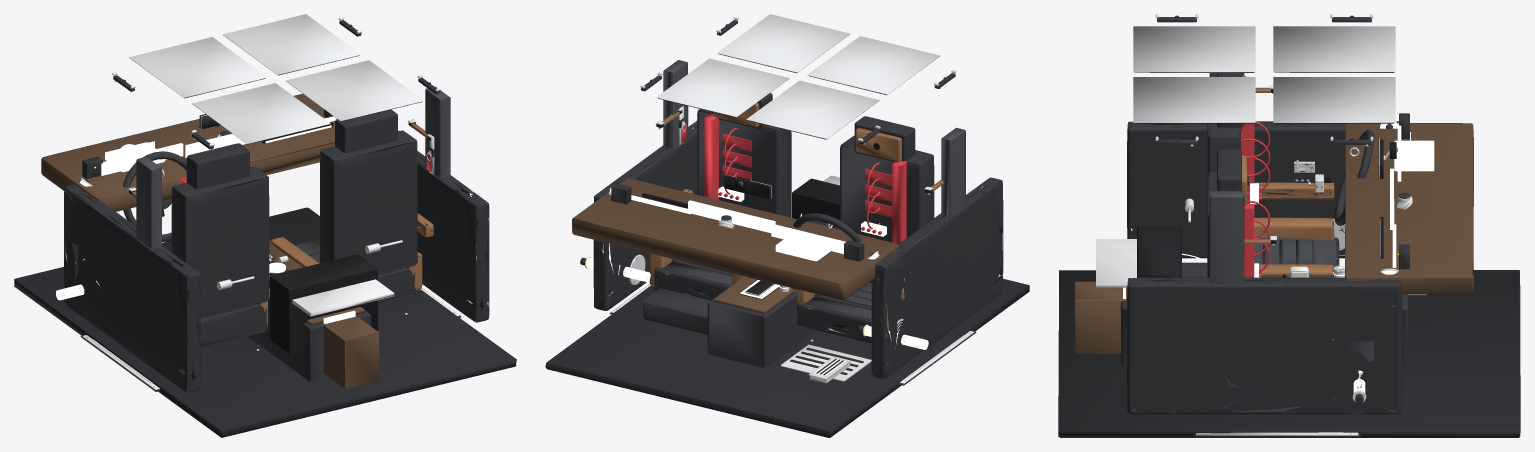
File: cockpit_luxury_executive.glb
3 views of the same model, side by side, from view 1: azimuth 30°, elevation 25°; view 2: azimuth 150°, elevation 25°; view 3: azimuth 270°, elevation 25° (orthographic). The views are drawn at different scales.
Visible parts, largest first — view 1: Cockpit_Floor_Carpet, Cockpit_Door_L, Cockpit_Passenger_Seat_Backrest, Cockpit_Driver_Seat_Backrest, Cockpit_Door_R, Cockpit_Executive_Dash_Cowl, Cockpit_Exec_VIP_Bar_Tray_BarCabinet, Cockpit_Exec_SmartGlass_GrabHandles_Busbar_Border_0_1, Cockpit_Exec_SmartGlass_GrabHandles_Busbar_Border_1_1, Cockpit_Exec_SmartGlass_GrabHandles_Busbar_Border_0_0, Cockpit_Exec_SmartGlass_GrabHandles_Busbar_Border_1_0, Cockpit_Executive_Refrigerated_Bar_Cabinet (+13 smaller); view 2: Cockpit_Floor_Carpet, Cockpit_Executive_Dash_Cowl, Cockpit_Door_L, Cockpit_Door_R, Cockpit_Driver_Seat_Backrest, Cockpit_Executive_Center_Console, Cockpit_Passenger_Seat_Backrest, Cockpit_Exec_SmartGlass_GrabHandles_Busbar_Border_0_1, Cockpit_Exec_SmartGlass_GrabHandles_Busbar_Border_1_1, Cockpit_Exec_SmartGlass_GrabHandles_Busbar_Border_0_0, Cockpit_Exec_SmartGlass_GrabHandles_Busbar_Border_1_0, Cockpit_BPillar_Trim_L (+19 smaller); view 3: Cockpit_Door_R, Cockpit_Floor_Carpet, Cockpit_Executive_Dash_Cowl, Cockpit_Door_L, Cockpit_Exec_SmartGlass_GrabHandles_Busbar_Border_0_0, Cockpit_Exec_SmartGlass_GrabHandles_Busbar_Border_1_0, Cockpit_Exec_SmartGlass_GrabHandles_Busbar_Border_0_1, Cockpit_Exec_SmartGlass_GrabHandles_Busbar_Border_1_1, Cockpit_BPillar_Trim_R, Cockpit_Executive_Refrigerated_Bar_Cabinet, Cockpit_Exec_VIP_Bar_Tray_BarCabinet, Cockpit_Exec_VIP_Bar_Tray_TrayTable_ChromeRim (+15 smaller).
Boxes of the visible parts, x1,y1,x2,y2 form: Cockpit_Floor_Carpet: (14, 207, 516, 437); Cockpit_Door_L: (64, 184, 200, 392); Cockpit_Passenger_Seat_Backrest: (320, 130, 417, 274); Cockpit_Driver_Seat_Backrest: (171, 167, 269, 319); Cockpit_Door_R: (417, 151, 489, 322); Cockpit_Executive_Dash_Cowl: (41, 93, 335, 211); Cockpit_Exec_VIP_Bar_Tray_BarCabinet: (270, 254, 377, 353); Cockpit_Exec_SmartGlass_GrabHandles_Busbar_Border_0_1: (286, 60, 424, 121); Cockpit_Exec_SmartGlass_GrabHandles_Busbar_Border_1_1: (222, 14, 361, 74); Cockpit_Exec_SmartGlass_GrabHandles_Busbar_Border_0_0: (192, 83, 330, 144); Cockpit_Exec_SmartGlass_GrabHandles_Busbar_Border_1_0: (129, 37, 267, 97); Cockpit_Executive_Refrigerated_Bar_Cabinet: (322, 315, 379, 388); Cockpit_Floor_Carpet: (545, 278, 1029, 437); Cockpit_Executive_Dash_Cowl: (572, 178, 899, 300); Cockpit_Door_L: (871, 177, 1003, 378); Cockpit_Door_R: (593, 121, 697, 310); Cockpit_Driver_Seat_Backrest: (840, 135, 934, 242); Cockpit_Executive_Center_Console: (707, 292, 817, 367); Cockpit_Passenger_Seat_Backrest: (697, 109, 791, 217); Cockpit_Exec_SmartGlass_GrabHandles_Busbar_Border_0_1: (717, 14, 850, 72); Cockpit_Exec_SmartGlass_GrabHandles_Busbar_Border_1_1: (656, 58, 789, 117); Cockpit_Exec_SmartGlass_GrabHandles_Busbar_Border_0_0: (807, 36, 940, 94); Cockpit_Exec_SmartGlass_GrabHandles_Busbar_Border_1_0: (746, 80, 879, 139); Cockpit_BPillar_Trim_L: (941, 127, 965, 225); Cockpit_Door_R: (1127, 277, 1401, 414); Cockpit_Floor_Carpet: (1058, 270, 1520, 437); Cockpit_Executive_Dash_Cowl: (1345, 123, 1473, 294); Cockpit_Door_L: (1127, 121, 1398, 258); Cockpit_Exec_SmartGlass_GrabHandles_Busbar_Border_0_0: (1133, 26, 1255, 72); Cockpit_Exec_SmartGlass_GrabHandles_Busbar_Border_1_0: (1273, 26, 1395, 72); Cockpit_Exec_SmartGlass_GrabHandles_Busbar_Border_0_1: (1133, 77, 1255, 122); Cockpit_Exec_SmartGlass_GrabHandles_Busbar_Border_1_1: (1273, 77, 1395, 122); Cockpit_BPillar_Trim_R: (1209, 190, 1244, 387); Cockpit_Executive_Refrigerated_Bar_Cabinet: (1074, 281, 1127, 353); Cockpit_Exec_VIP_Bar_Tray_BarCabinet: (1137, 226, 1181, 277); Cockpit_Exec_VIP_Bar_Tray_TrayTable_ChromeRim: (1096, 239, 1136, 287).
Size of the model in its own units: 1.83 by 1.26 by 1.85.
